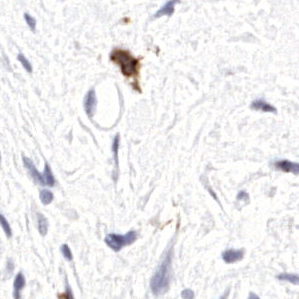Lymphocyte: (106, 45, 146, 80)
